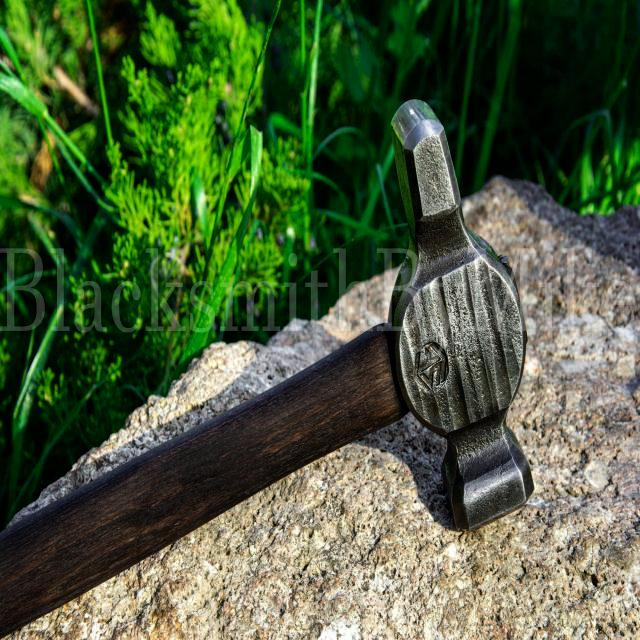hammer: (0, 96, 535, 640)
